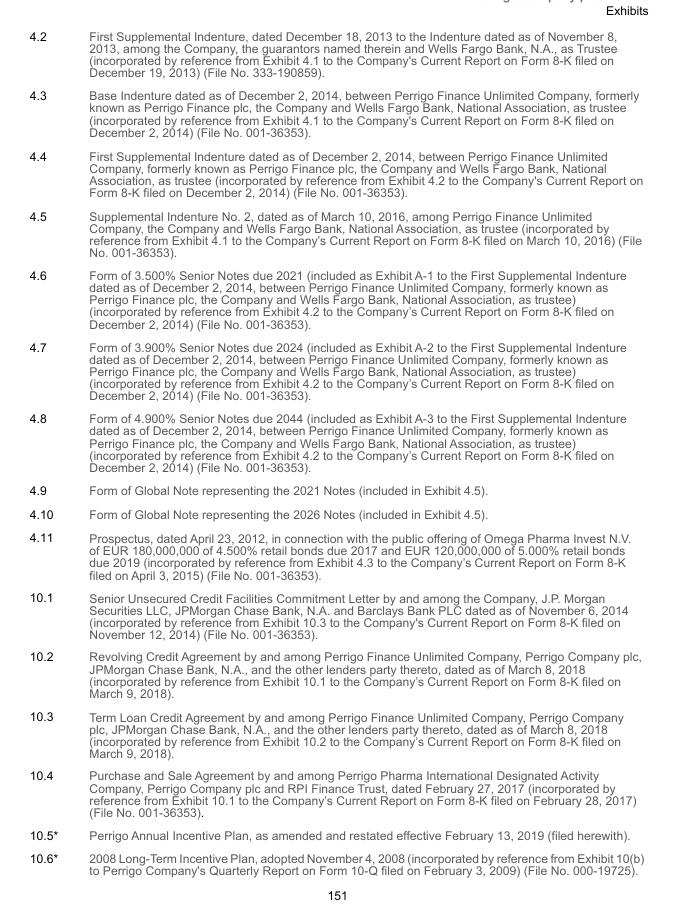table: (28, 28, 643, 876)
table column: (72, 28, 643, 876), (28, 28, 72, 876)
table row: (28, 334, 643, 406), (28, 406, 643, 478), (28, 263, 643, 334), (28, 83, 643, 143), (28, 143, 643, 203), (28, 203, 643, 263), (28, 525, 643, 585), (28, 644, 643, 704), (28, 704, 643, 764), (28, 585, 643, 644), (28, 764, 643, 823), (28, 28, 643, 83), (28, 846, 643, 876), (28, 501, 643, 525), (28, 478, 643, 501), (28, 823, 643, 846)
